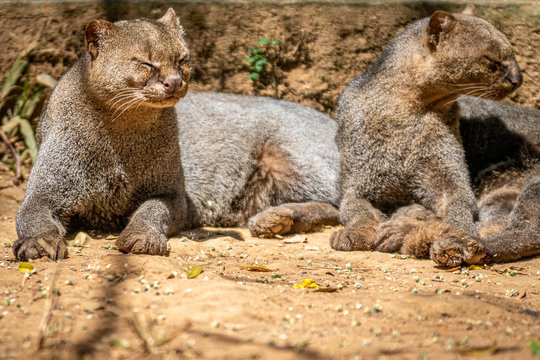Jaguarundi: (12, 5, 321, 266), (333, 4, 531, 270)
